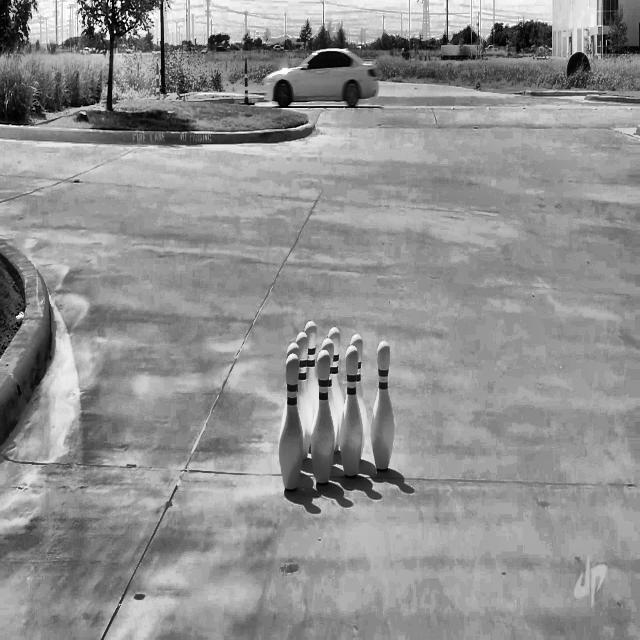bowling-pins: (279, 353, 304, 490), (311, 350, 335, 484), (340, 345, 363, 477), (372, 340, 395, 471), (296, 331, 313, 460), (351, 333, 367, 449), (328, 327, 344, 420), (305, 321, 319, 416), (328, 377, 340, 451), (321, 338, 334, 361), (287, 343, 300, 359)
